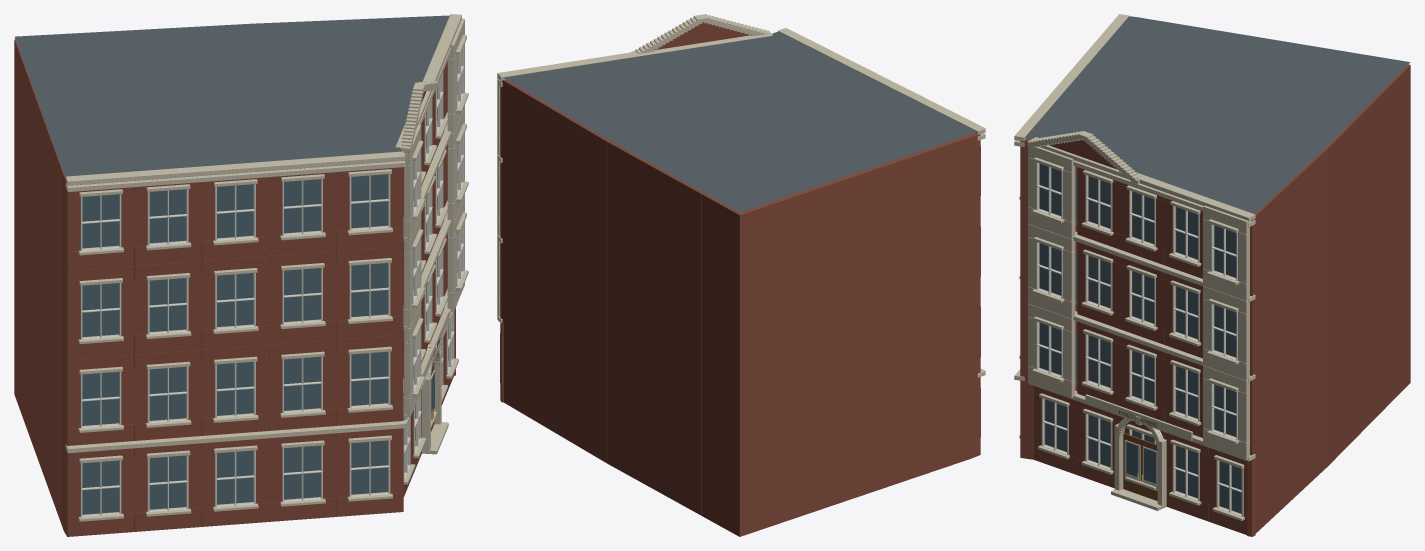
Rendered from kgs-exterior-45d3d3c37e2b.glb.
3 views of the same model, side by side, from view 1: azimuth 30°, elevation 25°; view 2: azimuth 150°, elevation 25°; view 3: azimuth 270°, elevation 25° (orthographic). The views are drawn at different scales.
Parts seen in each view (by area): view 1: KGS.001; view 2: KGS.001; view 3: KGS.001.
Part boxes in pixels (x1,y1,x2,y2): KGS.001: (14,14,468,536); KGS.001: (497,14,985,536); KGS.001: (1014,14,1410,536).
Bounding box in the file's own units: 20.97 × 16.55 × 17.14.
